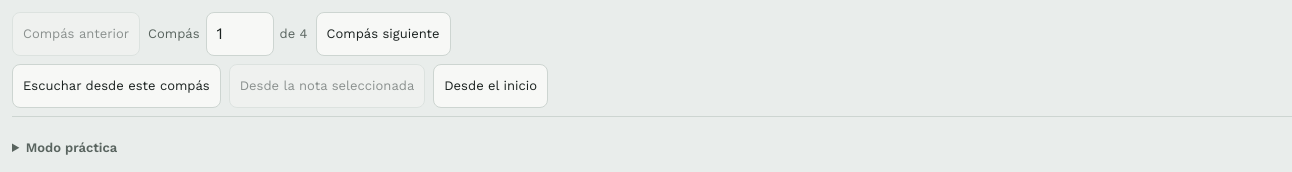
Scenario: ScoreNavigator › avanza por compases dentro de una misma nota ligada y respeta los límites
Check: the button "Compás anterior" is disabled, box 12,12 -> 140,56
Click the button "Compás siguiente". click: x=383, y=34
box: 316,12 -> 450,56
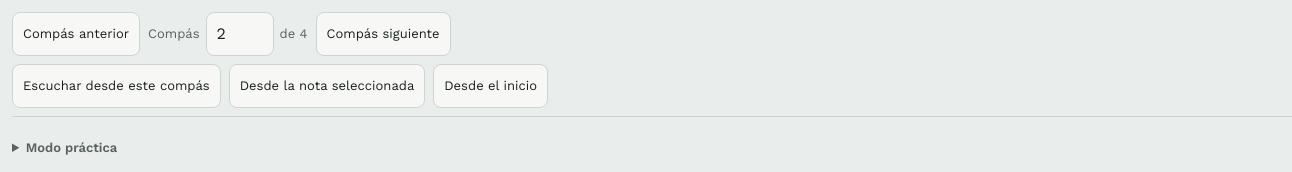
Check: the number field named "Ir al compás" holds "2", box 206,12 -> 274,56
Click the button "Compás siguiente". click: x=383, y=34
box: 316,12 -> 450,56
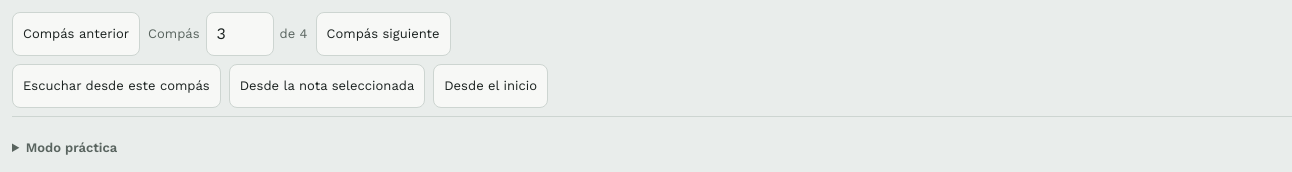
Check: the number field named "Ir al compás" holds "3", box 206,12 -> 274,56
Click the button "Compás siguiente". click: x=383, y=34
box: 316,12 -> 450,56
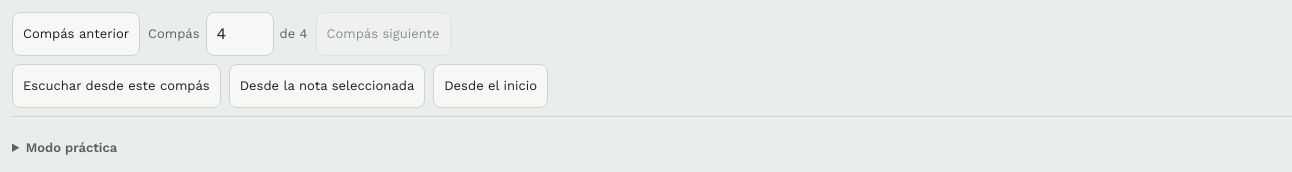
Check: the number field named "Ir al compás" holds "4", box 206,12 -> 274,56
Check: the button "Compás siguiente" is disabled, box 316,12 -> 450,56
Click the button "Compás anterior". click: x=76, y=34
box: 12,12 -> 140,56
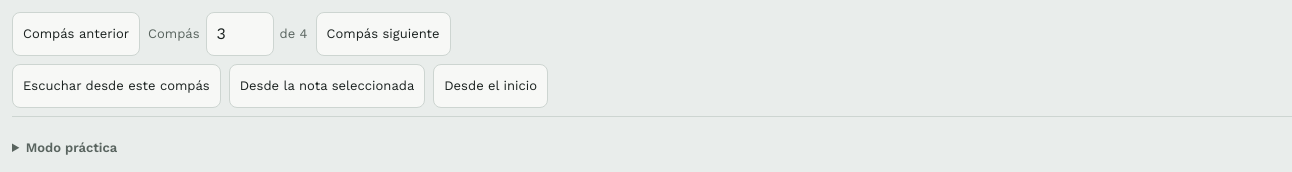
Check: the number field named "Ir al compás" holds "3", box 206,12 -> 274,56
